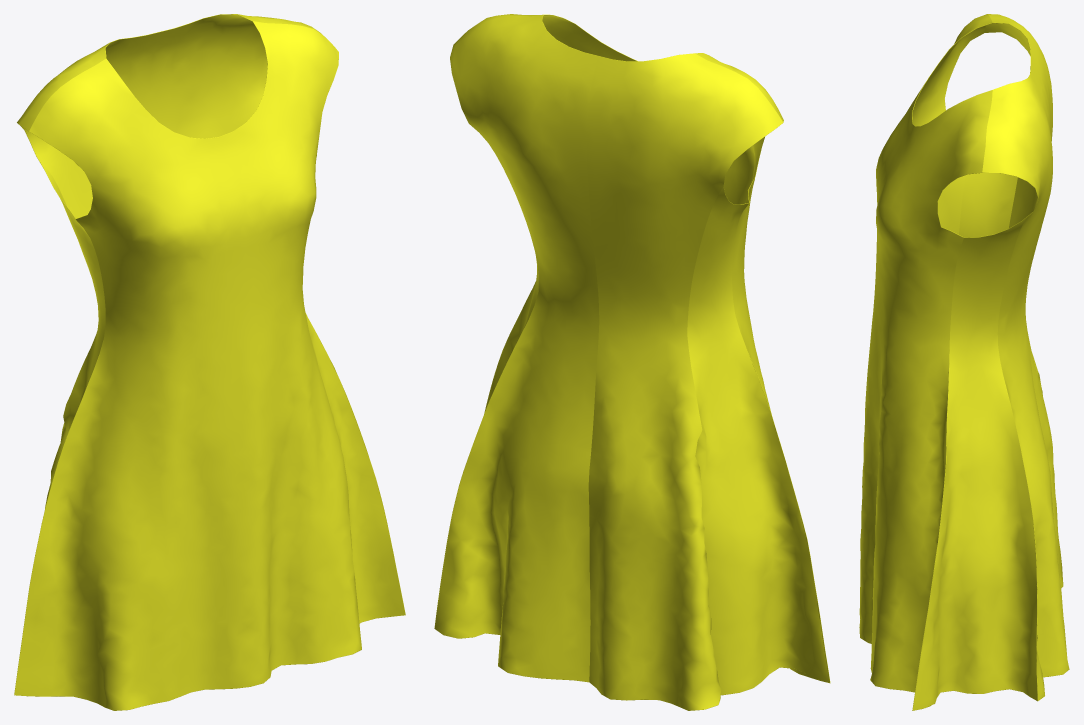
Rendered from asset.glb.
3 views of the same model, side by side, from view 1: azimuth 30°, elevation 25°; view 2: azimuth 150°, elevation 25°; view 3: azimuth 270°, elevation 25° (orthographic). The views are drawn at different scales.
Visible parts, largest first — view 1: Cloth; view 2: Cloth; view 3: Cloth.
Part boxes in pixels (<box>): Cloth: <box>14,14,405,710</box>; Cloth: <box>434,14,830,710</box>; Cloth: <box>859,14,1069,710</box>.
Bounding box in the file's own units: 0.1963 × 0.3115 × 0.1004.
1 material, 1 textured.
